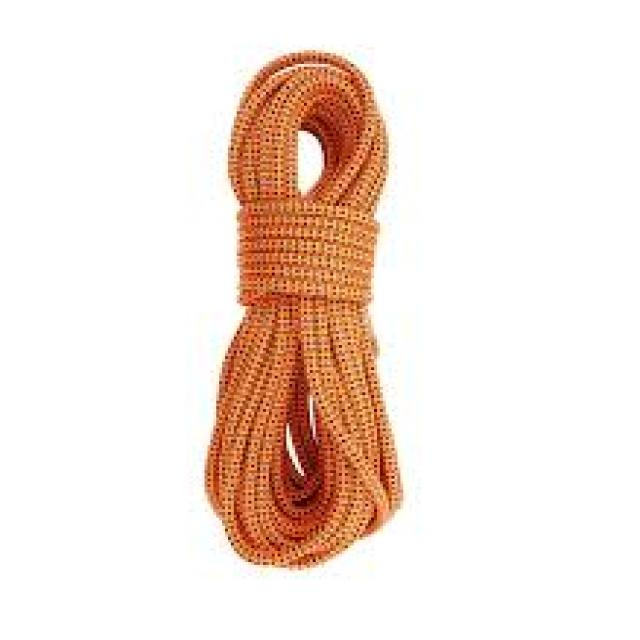rope: (207, 54, 402, 566)
